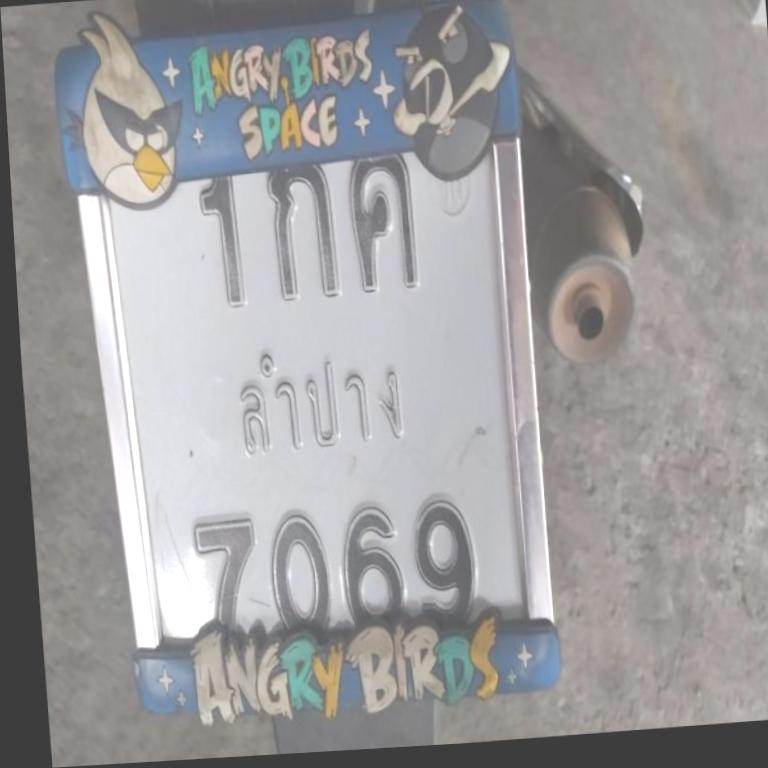license plate: (48, 0, 570, 736)
